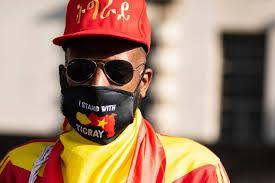cap: (52, 2, 160, 58)
mask: (58, 83, 140, 146)
sunglasses: (65, 55, 137, 91)
